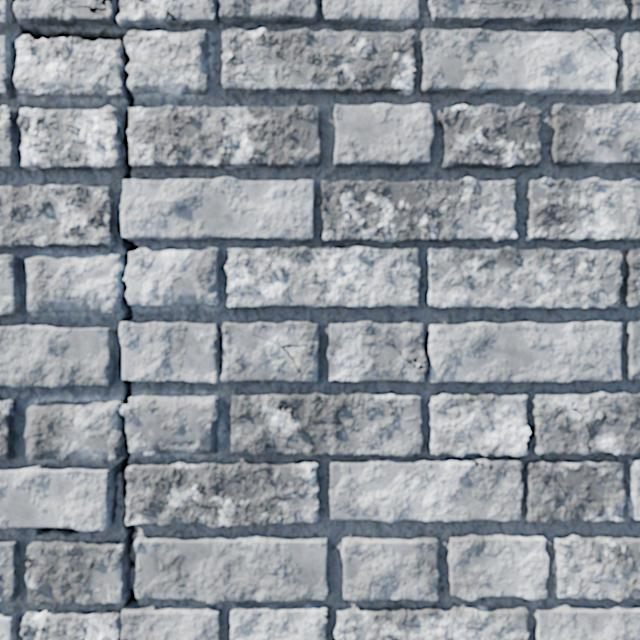broken_brick: (24, 395, 220, 460), (14, 35, 125, 99), (25, 253, 122, 313), (124, 248, 222, 306), (125, 30, 209, 95), (210, 247, 221, 251)
crack: (14, 0, 321, 404), (0, 411, 327, 639), (327, 321, 621, 382), (420, 29, 616, 95), (222, 28, 416, 94), (321, 177, 517, 242), (329, 458, 523, 523), (230, 392, 423, 456), (427, 247, 622, 308), (225, 247, 420, 308), (524, 458, 639, 523), (526, 178, 639, 242), (0, 184, 114, 247), (0, 325, 114, 387), (439, 103, 542, 170), (530, 392, 639, 455), (447, 533, 548, 600), (334, 605, 529, 639), (428, 393, 530, 457), (341, 536, 439, 601), (334, 103, 433, 166), (552, 535, 639, 601), (550, 103, 639, 166), (428, 0, 639, 26), (535, 604, 639, 639), (230, 603, 327, 639), (323, 0, 418, 26), (619, 32, 639, 94), (0, 540, 20, 601), (0, 255, 20, 314), (0, 106, 18, 169), (623, 249, 639, 306), (0, 399, 15, 459), (0, 36, 14, 98), (624, 322, 639, 379), (0, 613, 16, 639), (0, 0, 12, 29), (171, 440, 194, 446), (203, 247, 221, 252), (17, 88, 31, 91), (54, 310, 93, 311), (172, 302, 200, 303)
